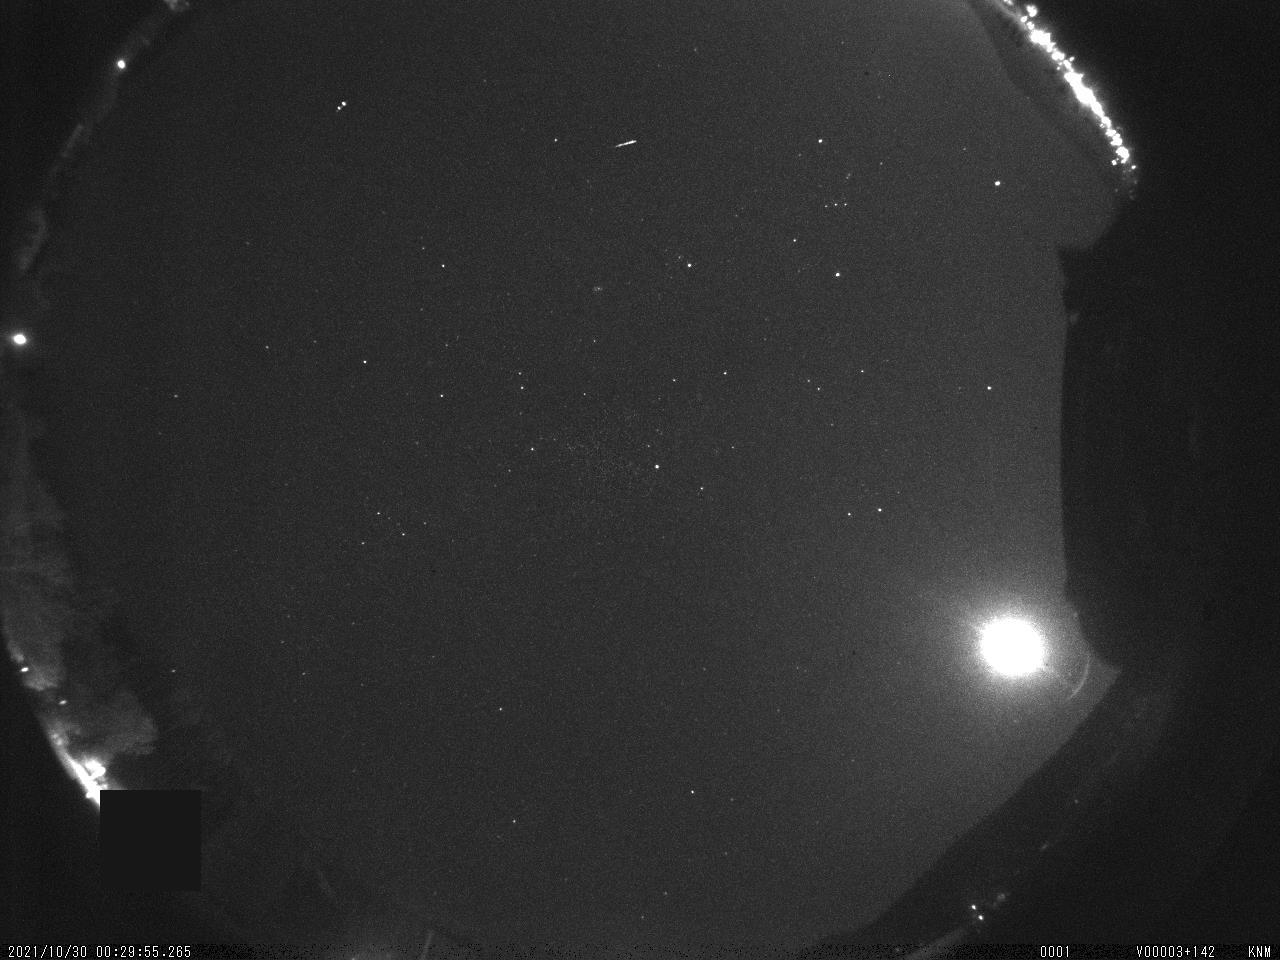meteor: (578, 121, 702, 172)
